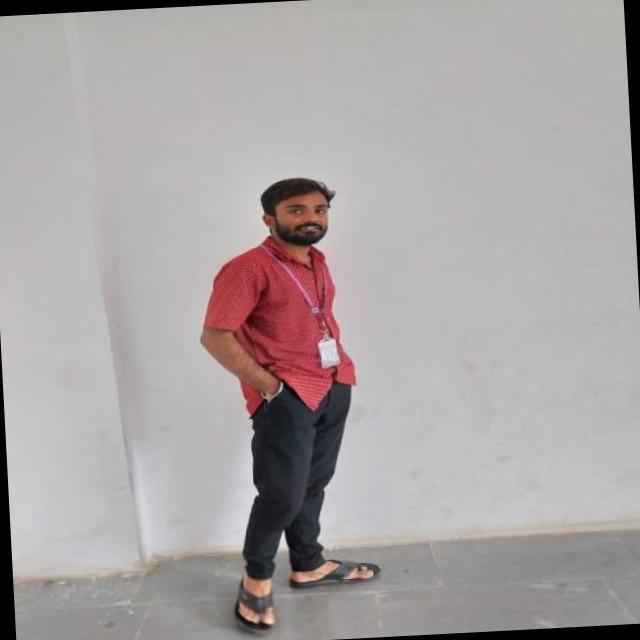id_card: (260, 228, 344, 369)
